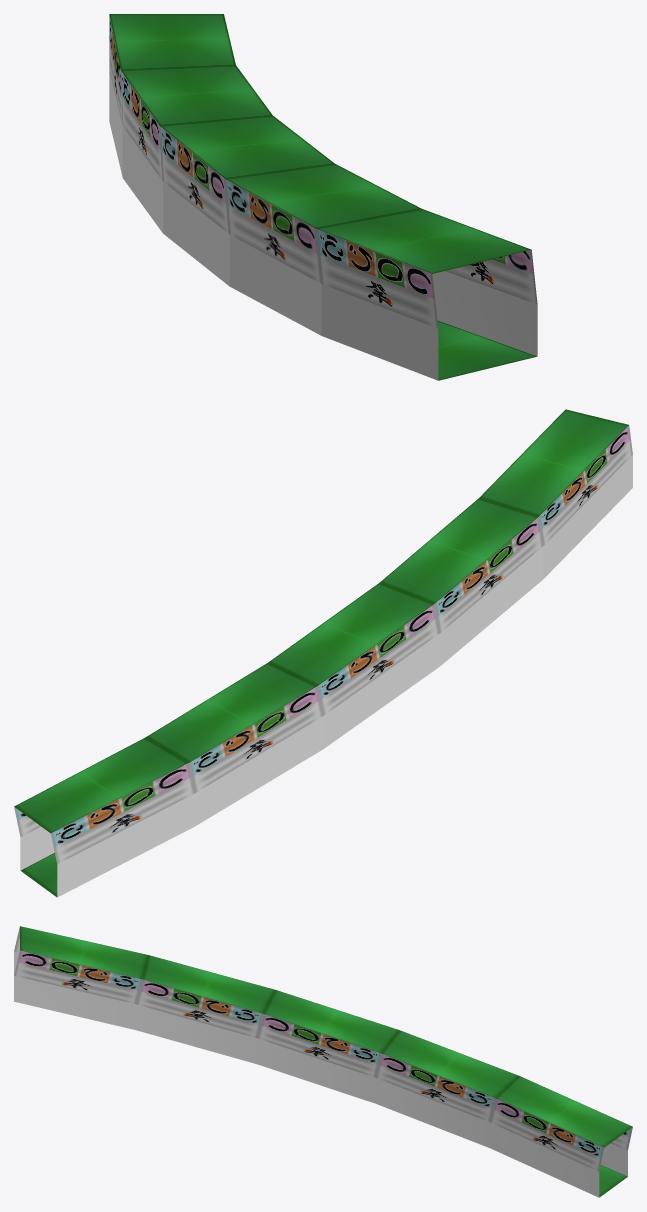
The model's file is CourseSpring_Box_Wall_R_6.fbx.
3 views of the same model, one above another, from view 1: azimuth 30°, elevation 25°; view 2: azimuth 150°, elevation 25°; view 3: azimuth 270°, elevation 25° (orthographic). The views are drawn at different scales.
Parts seen in each view (by area): view 1: polySurface43; view 2: polySurface43; view 3: polySurface43.
Boxes of the visible parts, x1=… form: polySurface43: x1=109, y1=14, x2=537, y2=380; polySurface43: x1=14, y1=409, x2=632, y2=897; polySurface43: x1=14, y1=926, x2=632, y2=1197.
Size of the model in its own units: 7.57 by 6.97 by 21.59.
Materials: 1 (1 with a texture image).
